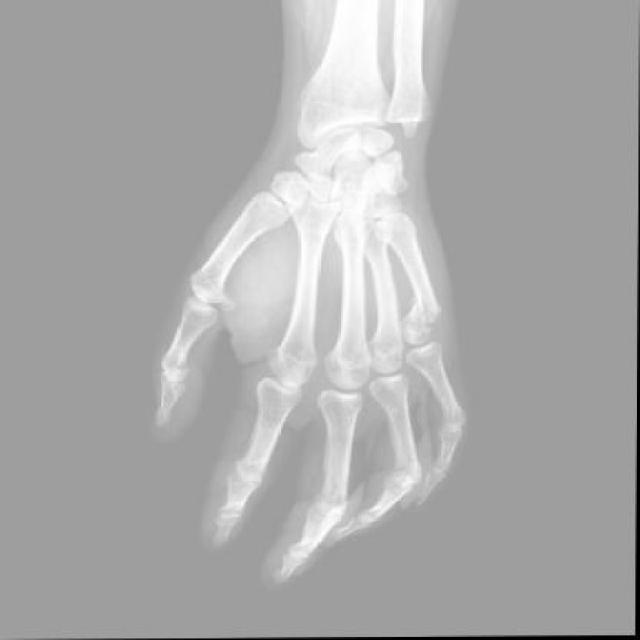Fracture: (405, 296, 442, 336)
